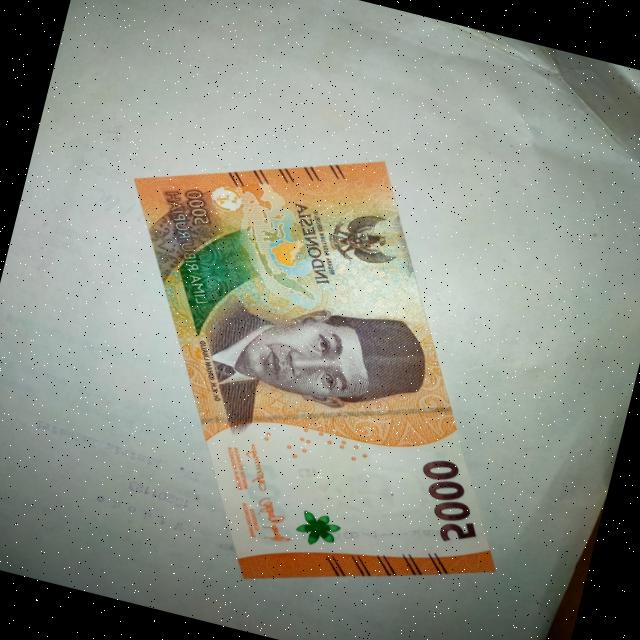5K: (40, 79, 597, 640)
